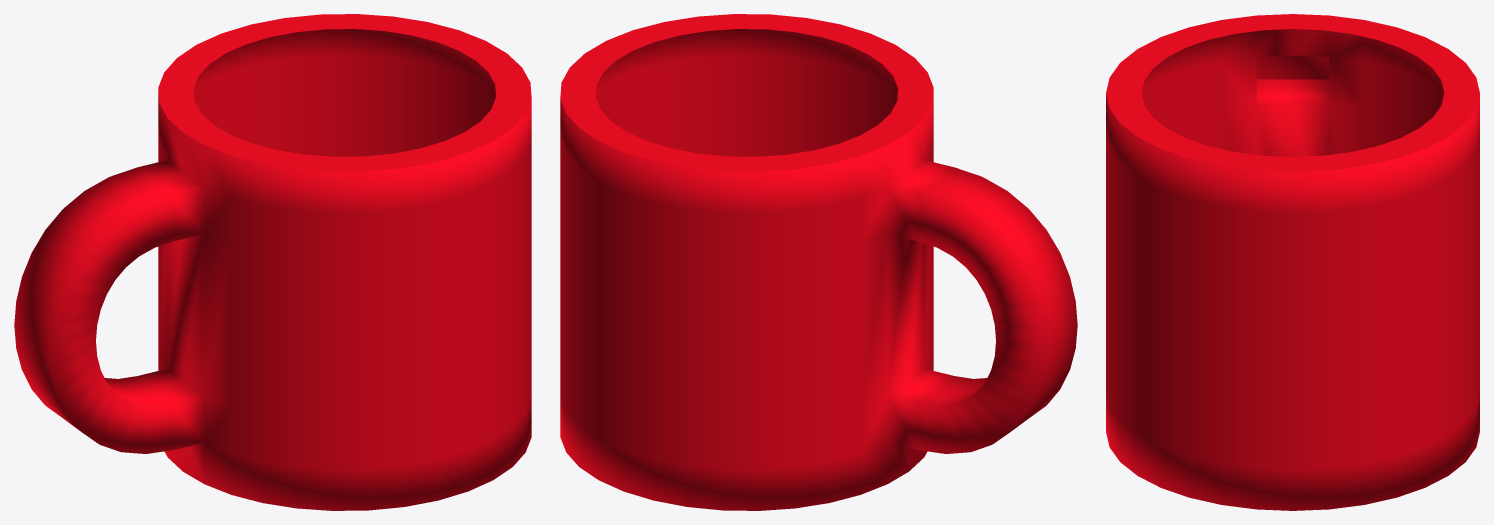
File: Cup.glb
3 views of the same model, side by side, from view 1: azimuth 30°, elevation 25°; view 2: azimuth 150°, elevation 25°; view 3: azimuth 270°, elevation 25° (orthographic).
Parts seen in each view (by area): view 1: Cup; view 2: Cup; view 3: Cup.
Boxes of the visible parts, x1=… form: Cup: x1=14, y1=14, x2=531, y2=510; Cup: x1=560, y1=14, x2=1077, y2=510; Cup: x1=1106, y1=14, x2=1479, y2=510.
Size of the model in its own units: 1.82 by 1.24 by 1.24.
